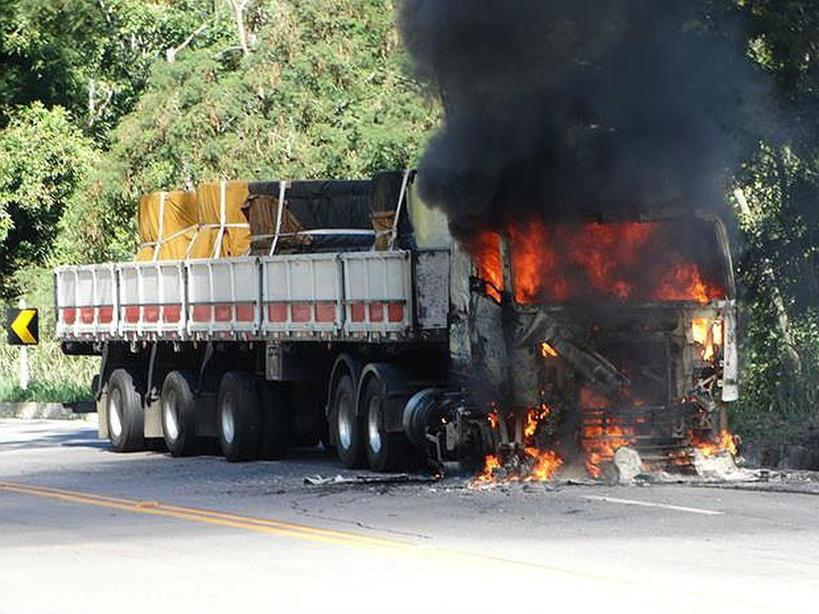Fire: (481, 218, 732, 308), (583, 389, 645, 477), (684, 424, 752, 459), (528, 448, 568, 484), (524, 407, 550, 440), (478, 452, 502, 487)
